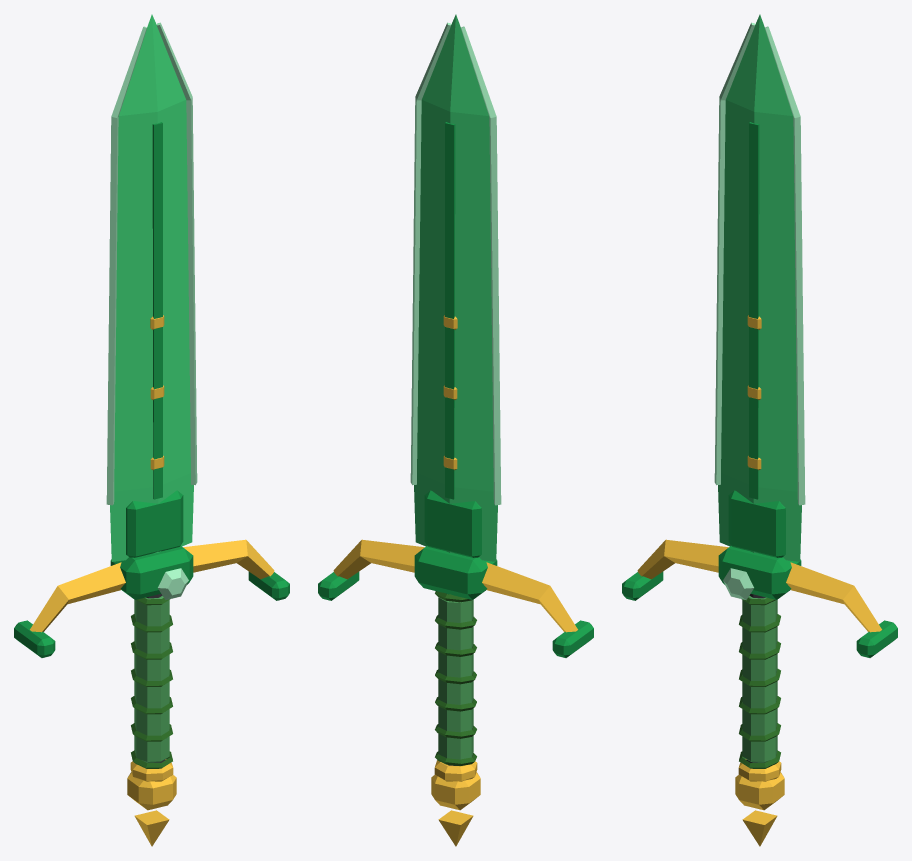
File: EmeraldGreatsword.fbx
3 views of the same model, side by side, from view 1: azimuth 30°, elevation 25°; view 2: azimuth 150°, elevation 25°; view 3: azimuth 330°, elevation 25° (orthographic).
Parts seen in each view (by area): view 1: EmeraldGreatsword; view 2: EmeraldGreatsword; view 3: EmeraldGreatsword.
Part boxes in pixels (left/top/right/bottom): EmeraldGreatsword: left=14, top=14, right=289, bottom=846; EmeraldGreatsword: left=318, top=14, right=593, bottom=846; EmeraldGreatsword: left=622, top=14, right=897, bottom=846.
Size of the model in its own units: 2.26 by 7.12 by 0.6.
Materials: 1 (1 with a texture image).
